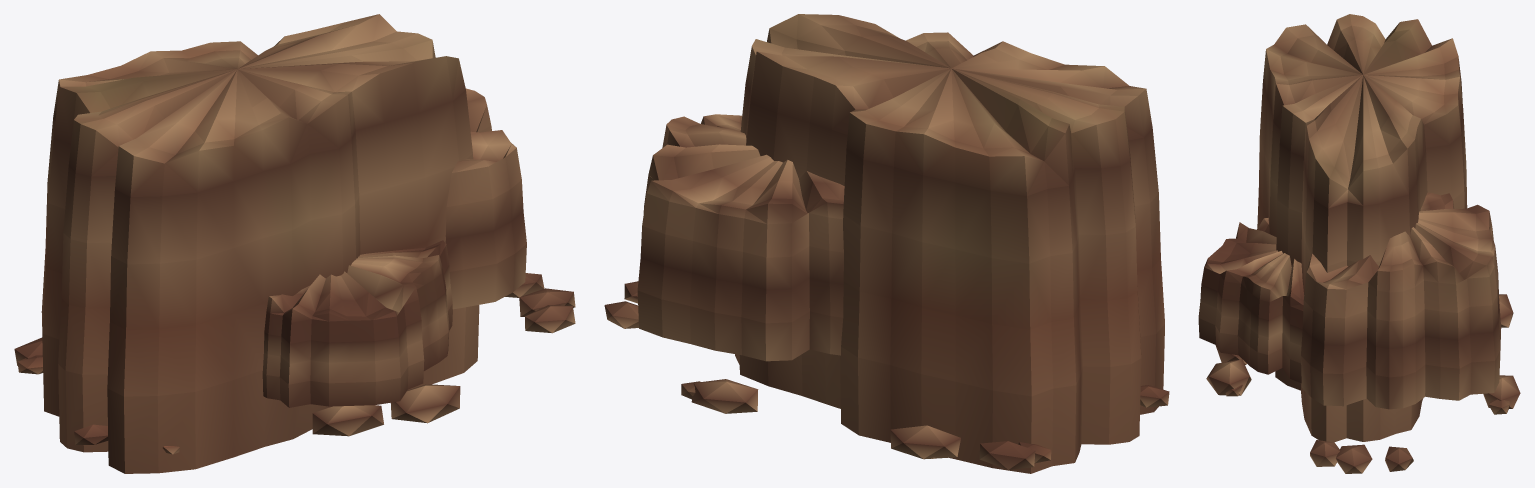
File: cliff_chunk_red.glb
3 renders of one model, left to right at view 1: azimuth 30°, elevation 25°; view 2: azimuth 150°, elevation 25°; view 3: azimuth 270°, elevation 25°, orthographic. The views are drawn at different scales.
Parts seen in each view (by area): view 1: cliff_chunk_red; view 2: cliff_chunk_red; view 3: cliff_chunk_red.
Boxes of the visible parts, <box> form: cliff_chunk_red: <box>14,14,575,473</box>; cliff_chunk_red: <box>604,14,1169,473</box>; cliff_chunk_red: <box>1198,14,1520,473</box>.
Bounding box in the file's own units: 13.72 × 8.3 × 8.67.
